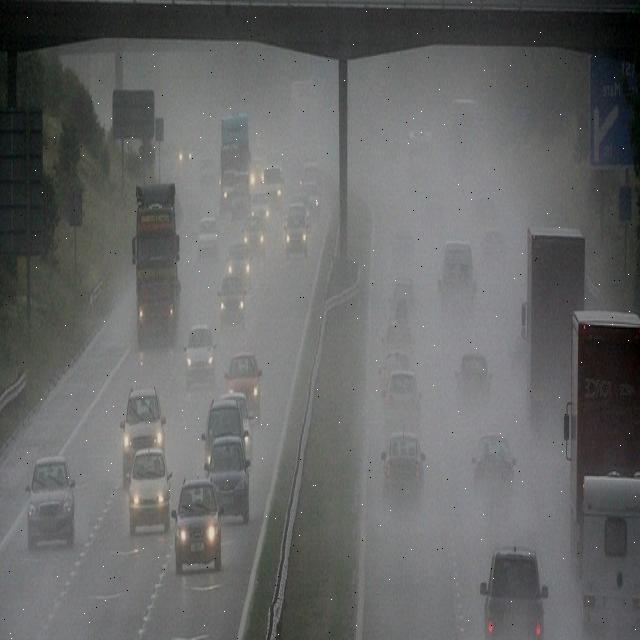Car: (481, 542, 548, 640), (120, 382, 168, 487), (174, 474, 224, 572), (26, 456, 76, 547), (205, 428, 251, 521), (126, 444, 172, 534), (380, 431, 426, 508), (471, 432, 516, 497), (436, 239, 476, 306), (219, 389, 253, 466), (225, 351, 263, 419), (382, 368, 423, 428), (184, 322, 217, 389), (454, 352, 492, 406), (216, 271, 246, 329), (382, 348, 413, 393), (224, 241, 250, 291), (389, 222, 415, 272), (284, 202, 308, 256), (481, 226, 506, 276), (248, 202, 270, 256), (390, 278, 415, 324), (384, 316, 413, 355), (196, 214, 218, 259), (474, 193, 497, 236), (262, 164, 284, 208), (407, 128, 433, 162), (199, 162, 218, 200), (301, 159, 320, 196), (303, 180, 321, 216), (173, 189, 183, 234), (180, 145, 194, 172), (250, 170, 256, 186)
Truck: (568, 308, 640, 586), (524, 228, 585, 433), (131, 176, 179, 347), (220, 112, 251, 199), (451, 97, 482, 162), (291, 76, 317, 135)
